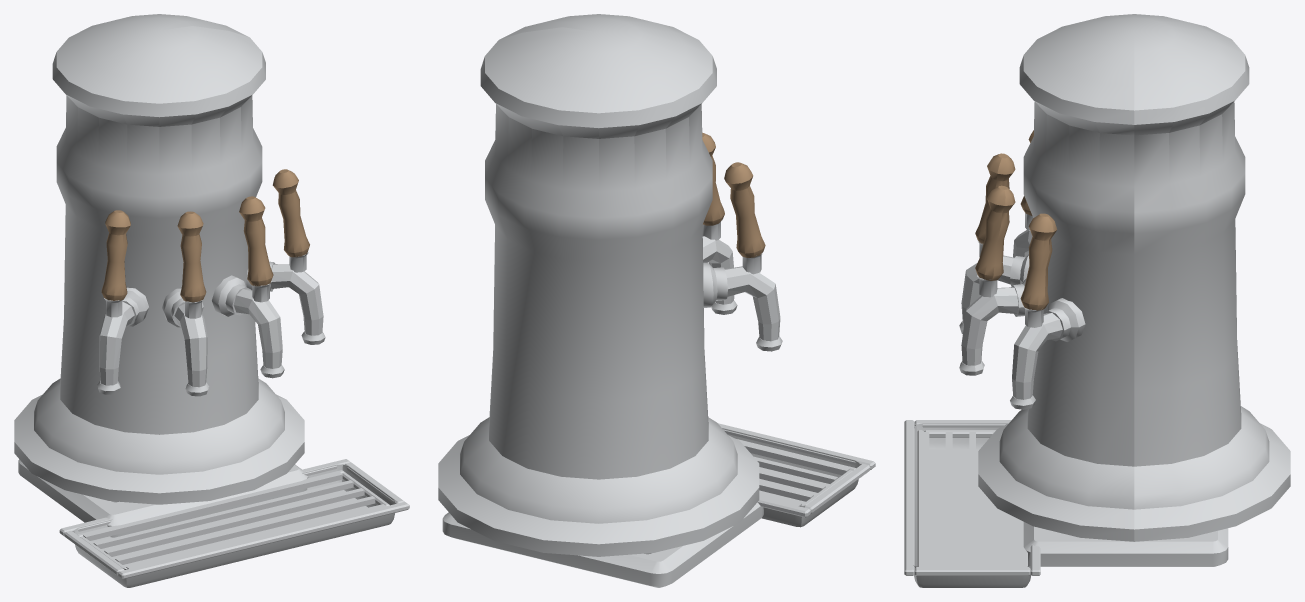
Rendered from bar-pub-and-brewery-taproom-tap-font-4-b338e2c4__18341.glb.
3 renders of one model, left to right at view 1: azimuth 30°, elevation 25°; view 2: azimuth 150°, elevation 25°; view 3: azimuth 270°, elevation 25°, orthographic. The views are drawn at different scales.
Visible parts, largest first — view 1: tap-font-4; view 2: tap-font-4; view 3: tap-font-4.
Part boxes in pixels (<box>): tap-font-4: <box>14,14,409,587</box>; tap-font-4: <box>438,14,875,587</box>; tap-font-4: <box>904,14,1290,587</box>.
Bounding box in the file's own units: 0.42 × 0.63 × 0.4532.
